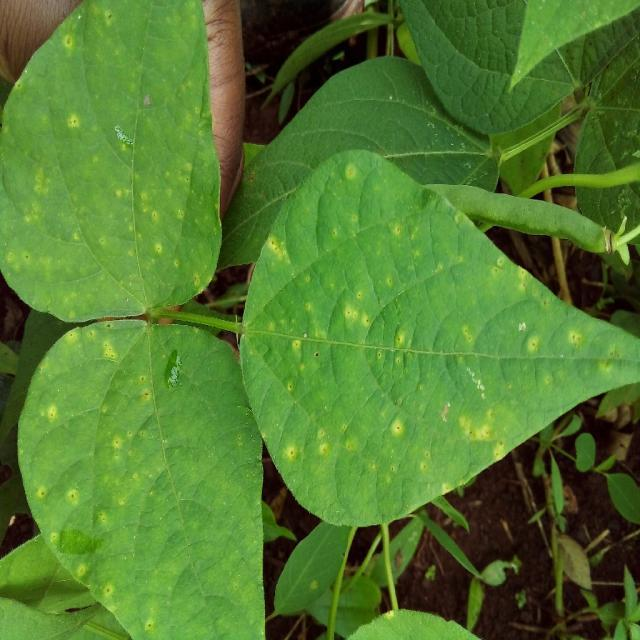mozaik: (285, 220, 540, 462), (68, 364, 241, 597), (39, 68, 179, 250)
